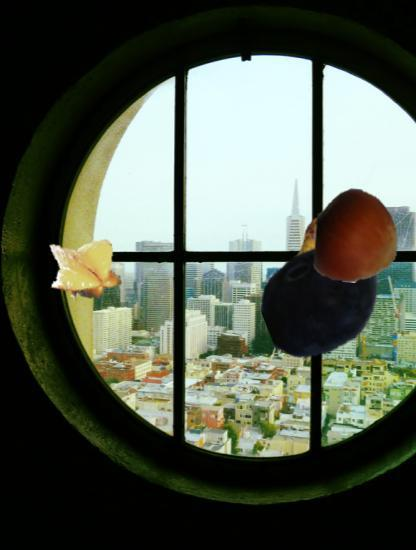Blueberry: (261, 239, 384, 362)
Carambula: (44, 230, 125, 311)
Nut: (310, 189, 404, 283)
Pear: (280, 215, 354, 289)
